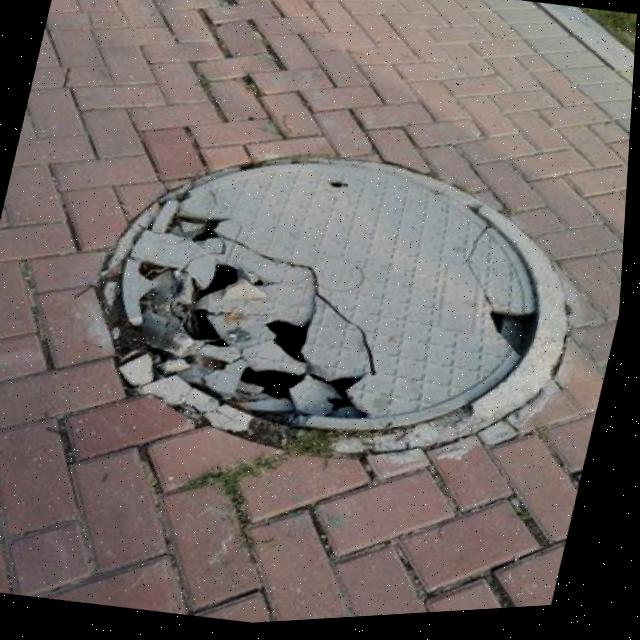manhole: (61, 104, 614, 498)
